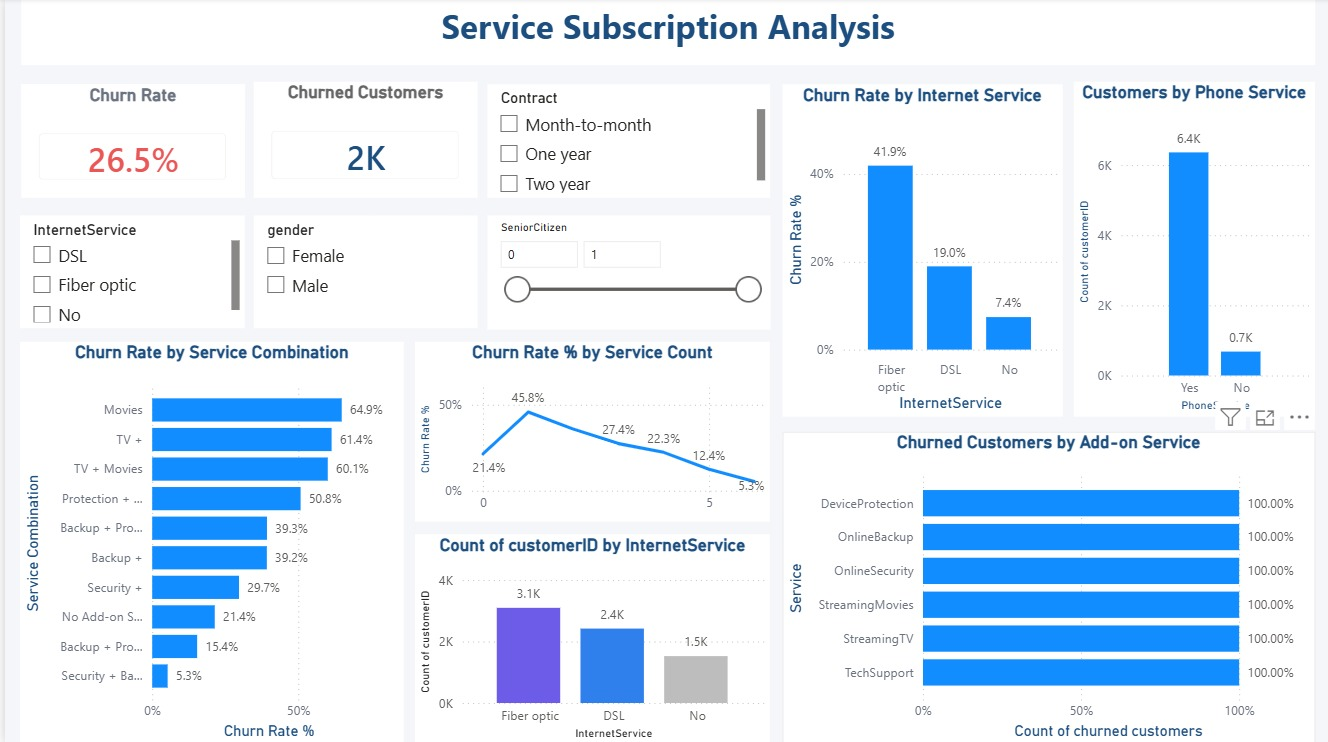

What the dashboard file says about the page in this screenshot:
{"tool":"powerbi","page":{"name":"Service Subscription Analysis","canvas":[1280,720],"ordinal":1},"visuals":[{"type":"textbox","box":[15.7,0,1248.7,65.1],"z":0},{"type":"cardVisual","title":"Churned Customers","fields":{"Data":["Customers.Churned Customers"]},"box":[240.1,80.8,216,112.2],"z":1000},{"type":"slicer","fields":{"Values":["Customers.Contract"]},"box":[465.7,83.2,272.7,109.8],"z":2000},{"type":"slicer","fields":{"Values":["Customers.InternetService"]},"box":[14.5,209.9,217.2,108.6],"z":3000},{"type":"slicer","fields":{"Values":["Customers.SeniorCitizen"]},"box":[465.7,209.9,272.7,109.8],"z":4000},{"type":"slicer","fields":{"Values":["Customers.gender"]},"box":[240.1,209.9,216,108.6],"z":5000},{"type":"clusteredColumnChart","fields":{"Category":["Customers.InternetService"],"Y":["CountNonNull(Customers.customerID)"]},"box":[395.7,517.6,342.6,202.7],"z":6000},{"type":"lineChart","fields":{"Category":["Customers.Service Count"],"Y":["Customers.Churn Rate %"]},"box":[395.7,331.8,342.6,173.7],"z":7000},{"type":"clusteredColumnChart","title":"Customers by Phone Service","fields":{"Category":["Customers.PhoneService"],"Y":["CountNonNull(Customers.customerID)"]},"box":[1031.5,80.8,232.8,323.3],"z":8000},{"type":"clusteredColumnChart","title":"Churn Rate by Internet Service","fields":{"Category":["Customers.InternetService"],"Y":["Customers.Churn Rate %"]},"box":[750.4,83.2,270.2,320.9],"z":9000},{"type":"clusteredBarChart","title":"Churn Rate by Service Combination","fields":{"Category":["Customers.Service Combination"],"Y":["Customers.Churn Rate %"]},"box":[14.5,331.8,370.4,388.5],"z":10000},{"type":"cardVisual","title":"Churn Rate","fields":{"Data":["Customers.Churn Rate %"]},"box":[15.7,83.2,216,109.8],"z":12000},{"type":"clusteredBarChart","title":"Churned Customers by Add-on Service","fields":{"Category":["Service Analysis.Service"],"Y":["Service Analysis.Service Churn Rate"]},"box":[750.4,418.6,513.9,301.6],"z":12001}]}

Visuals, with their boxes in screenshot pixels (x1, y1, x2, y2), scaled from the page's 1280x720 canvas onto the 1328x742 screenshot:
textbox: [16,0,1312,67]
"Churned Customers" cardVisual: [249,83,473,199]
slicer - Customers.Contract: [483,86,766,199]
slicer - Customers.InternetService: [15,216,240,328]
slicer - Customers.SeniorCitizen: [483,216,766,329]
slicer - Customers.gender: [249,216,473,328]
clusteredColumnChart - Customers.InternetService x CountNonNull(Customers.customerID): [411,533,766,741]
lineChart - Customers.Service Count x Customers.Churn Rate %: [411,342,766,521]
"Customers by Phone Service" clusteredColumnChart: [1070,83,1312,416]
"Churn Rate by Internet Service" clusteredColumnChart: [779,86,1059,416]
"Churn Rate by Service Combination" clusteredBarChart: [15,342,399,741]
"Churn Rate" cardVisual: [16,86,240,199]
"Churned Customers by Add-on Service" clusteredBarChart: [779,431,1312,741]
